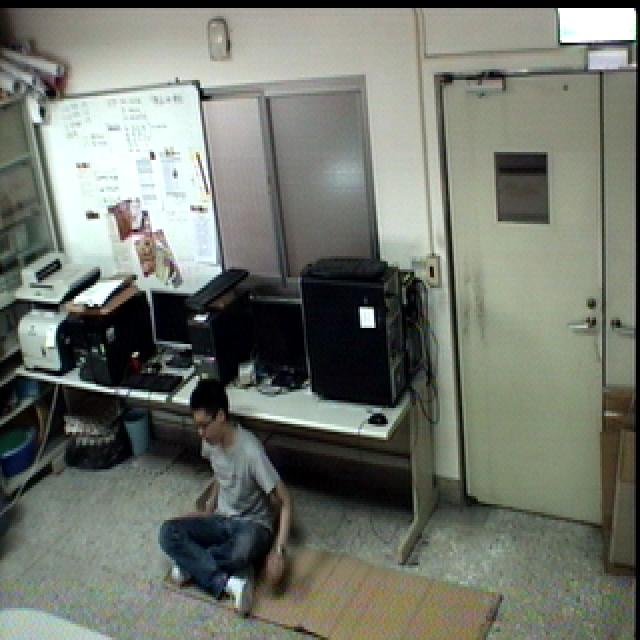sit: (153, 374, 300, 616)
